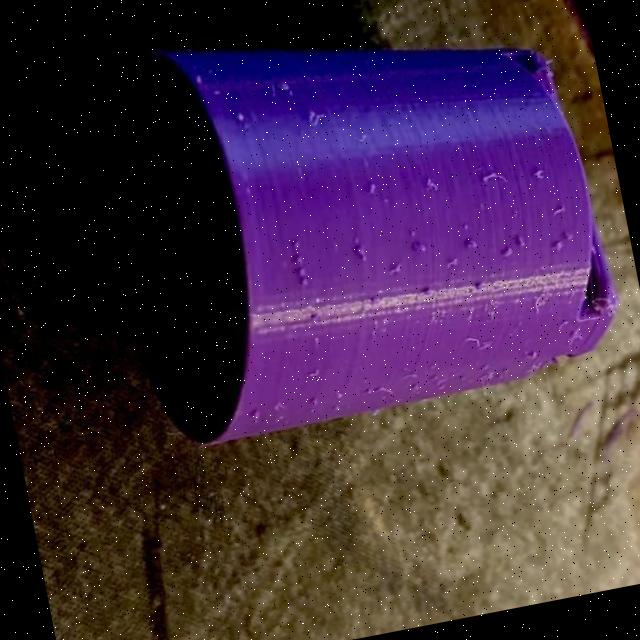blobs: (272, 74, 296, 102), (290, 236, 308, 254), (350, 246, 368, 264), (514, 236, 532, 254), (526, 347, 544, 364), (411, 240, 428, 257), (562, 227, 579, 244), (550, 239, 566, 257), (364, 180, 380, 198), (466, 238, 482, 255), (300, 274, 314, 292), (309, 396, 324, 411), (501, 245, 514, 262), (294, 254, 308, 268), (297, 266, 309, 282), (235, 111, 246, 128), (473, 280, 486, 292), (500, 366, 512, 378)
